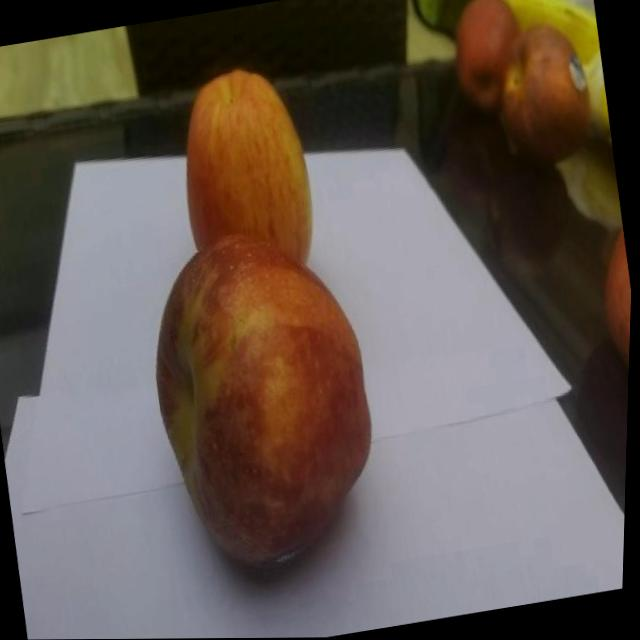Apple: (133, 216, 400, 585), (167, 60, 327, 283), (592, 228, 635, 385)
